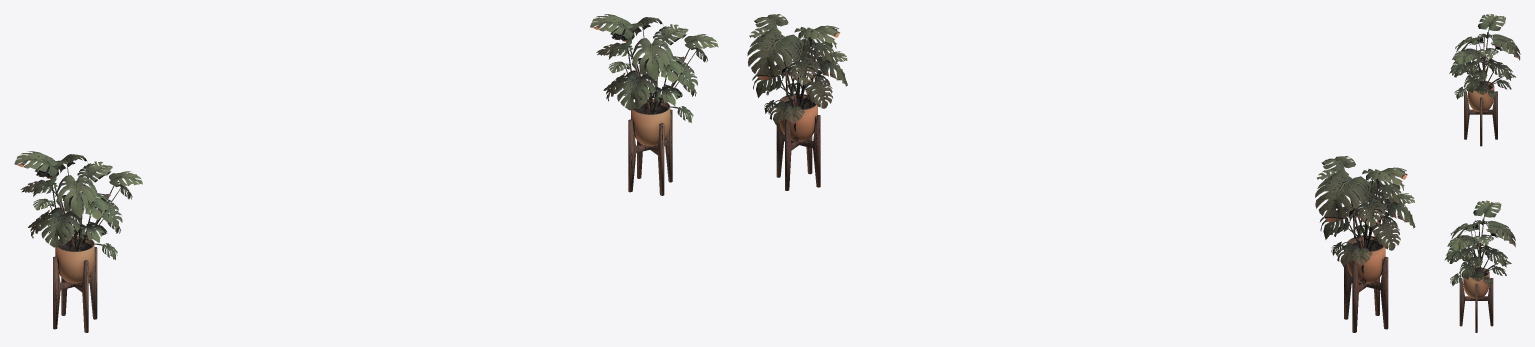
The model's file is plants.glb.
The picture shows the model from 3 angles, left to right: view 1: azimuth 30°, elevation 25°; view 2: azimuth 150°, elevation 25°; view 3: azimuth 270°, elevation 25°; orthographic projection. The views are drawn at different scales.
Visible parts, largest first — view 1: Stand; view 2: Stand; view 3: Stand.
Boxes of the visible parts, box(x1,y1,x2,y2) form: Stand: box(14, 14, 718, 332); Stand: box(747, 14, 1415, 332); Stand: box(1444, 14, 1520, 332).
Size of the model in its own units: 6.63 by 1.58 by 0.9748.
1 material, 1 textured.
